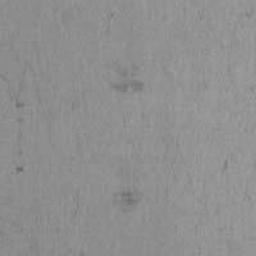Oil spot: (110, 164, 152, 216), (106, 47, 147, 97)
